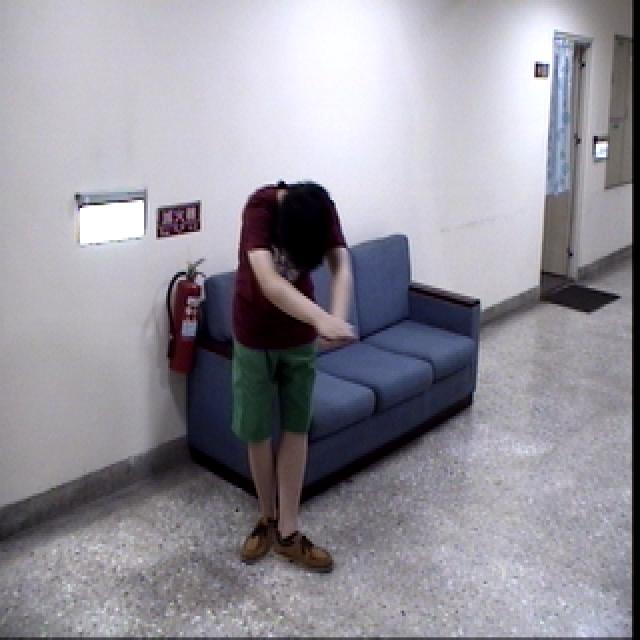bend: (229, 176, 367, 580)
